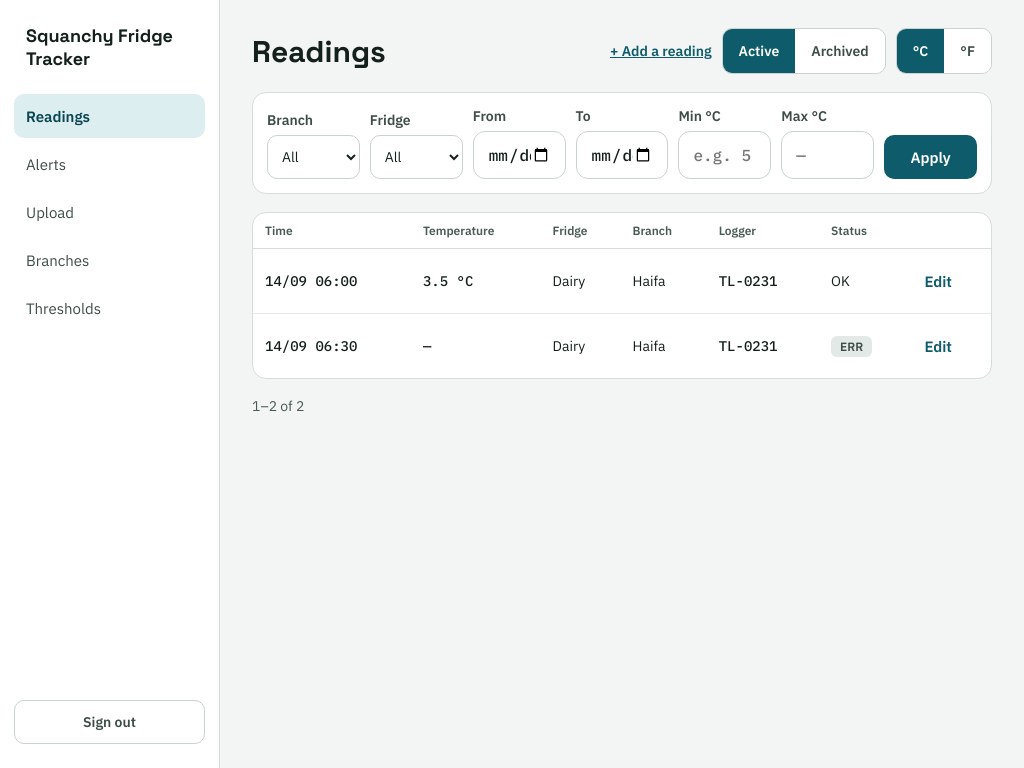
Test: ReadingsPage filters › keeps the minimum's meaning when the unit changes: above 5 °C becomes above 41 °F
The image size is (1024, 768).
Step 1. Type "5" into the field labelled "Min °C" → (725, 155), box [678,131,771,179]
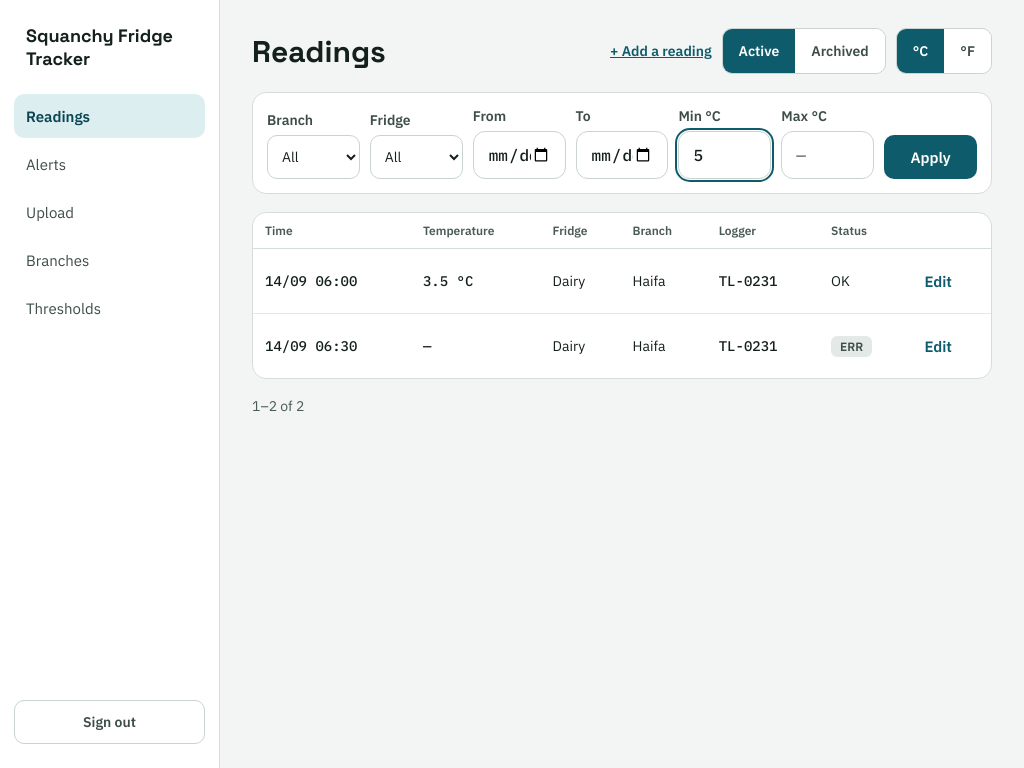
Step 2. Click the button "Apply" → (930, 157), box [884,135,977,179]
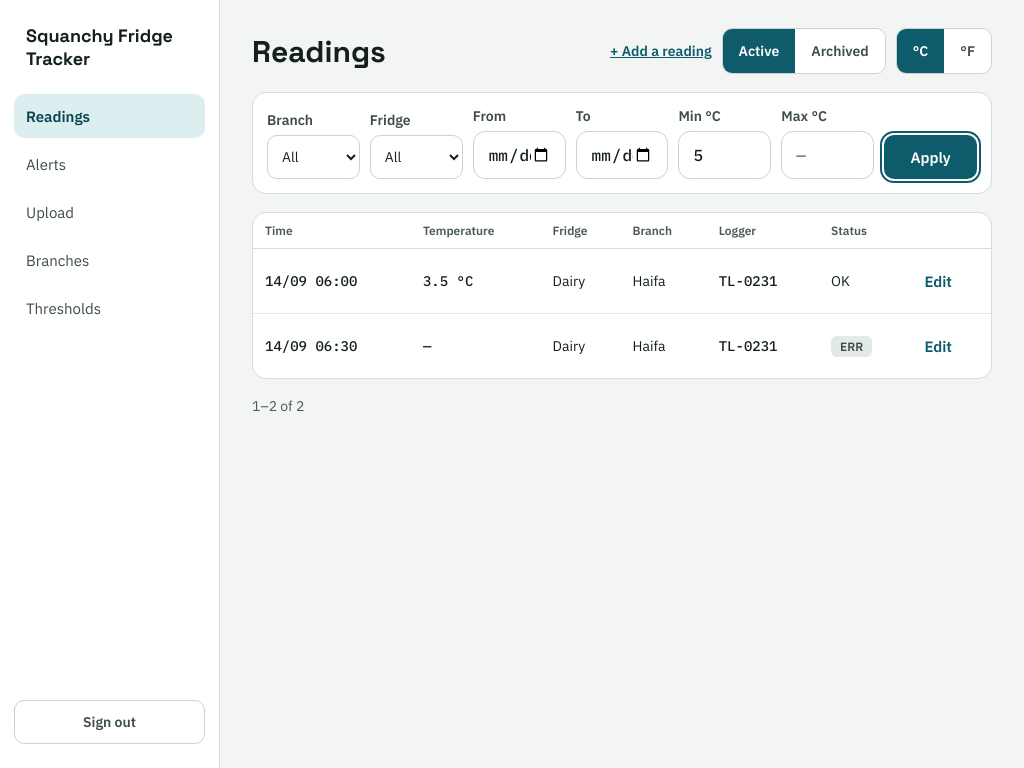
Step 3. Click the button "°F" → (968, 51), box [944,29,991,73]
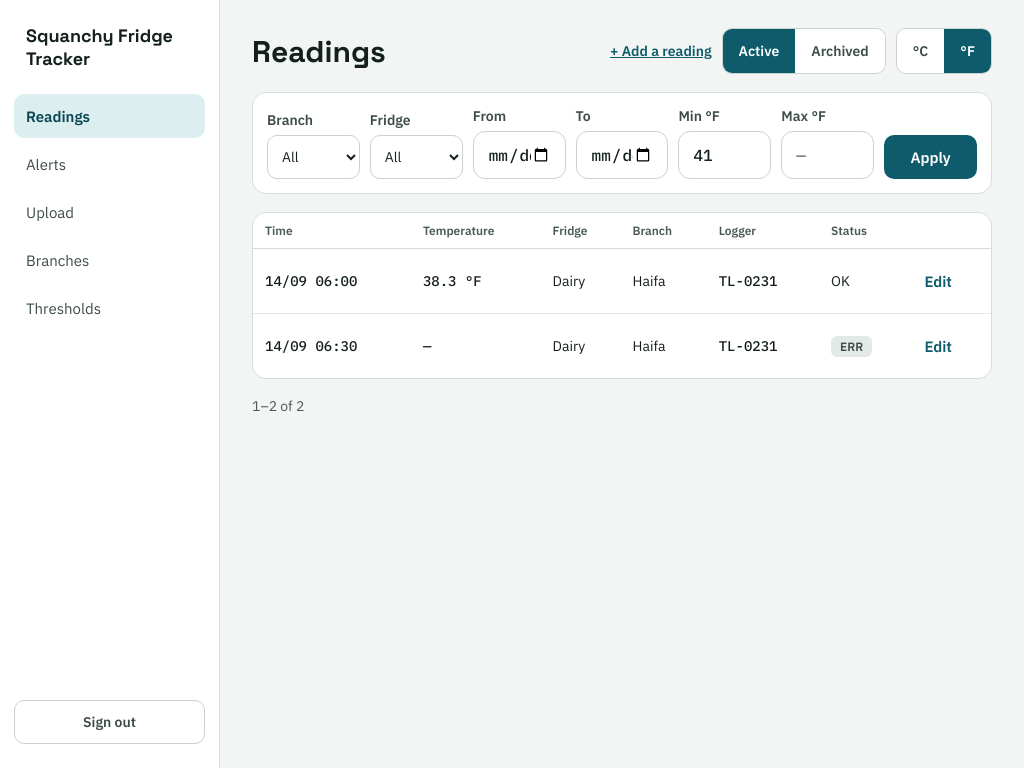
Expected: the field labelled "Min °F" holds "41", [678,131,771,179]
